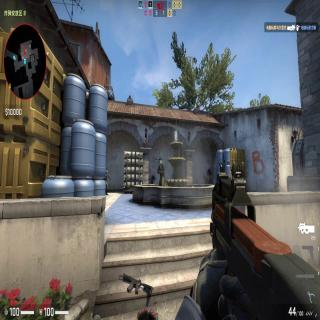T-Head: (105, 168, 108, 173)
